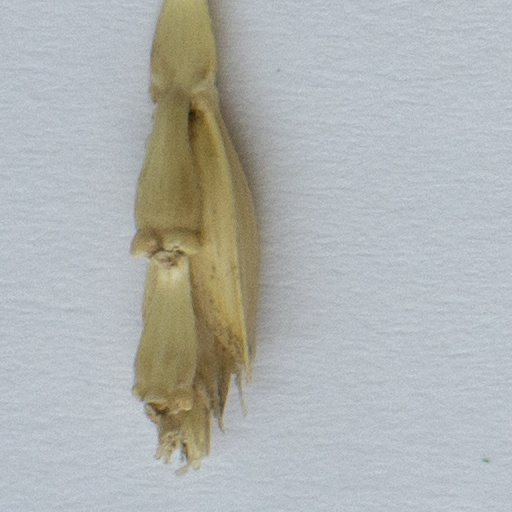Peel-poly: (134, 0, 256, 469)
